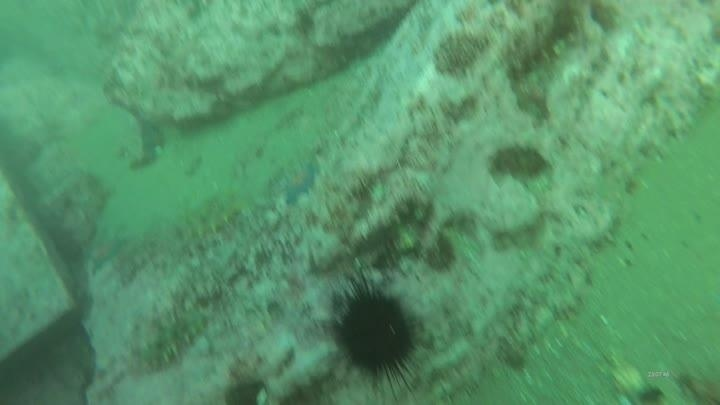echinus: (328, 276, 425, 392)
holothurian: (129, 303, 214, 375), (172, 184, 262, 246)
starfish: (83, 228, 130, 276), (278, 158, 322, 207)
